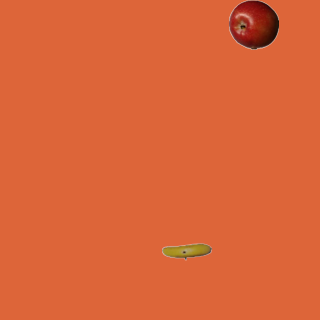Apple Braeburn: (228, 0, 278, 49)
Banana: (161, 226, 211, 276)
